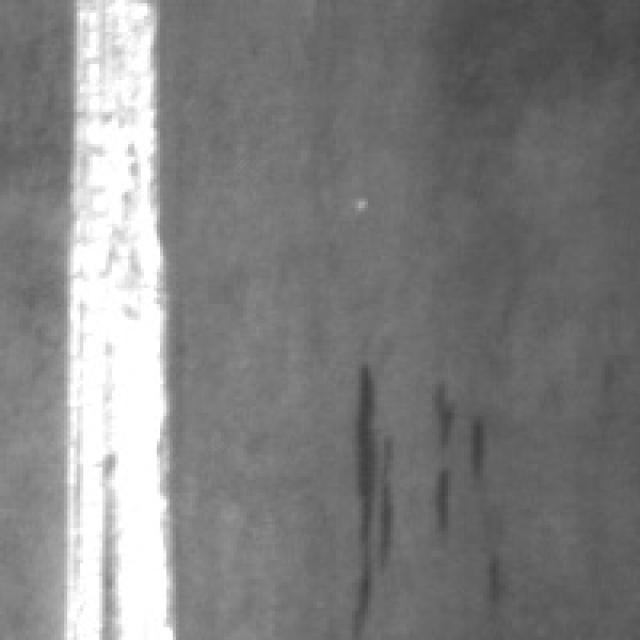inclusion: (339, 355, 403, 637), (422, 368, 487, 550)
scratches: (51, 0, 173, 634)
